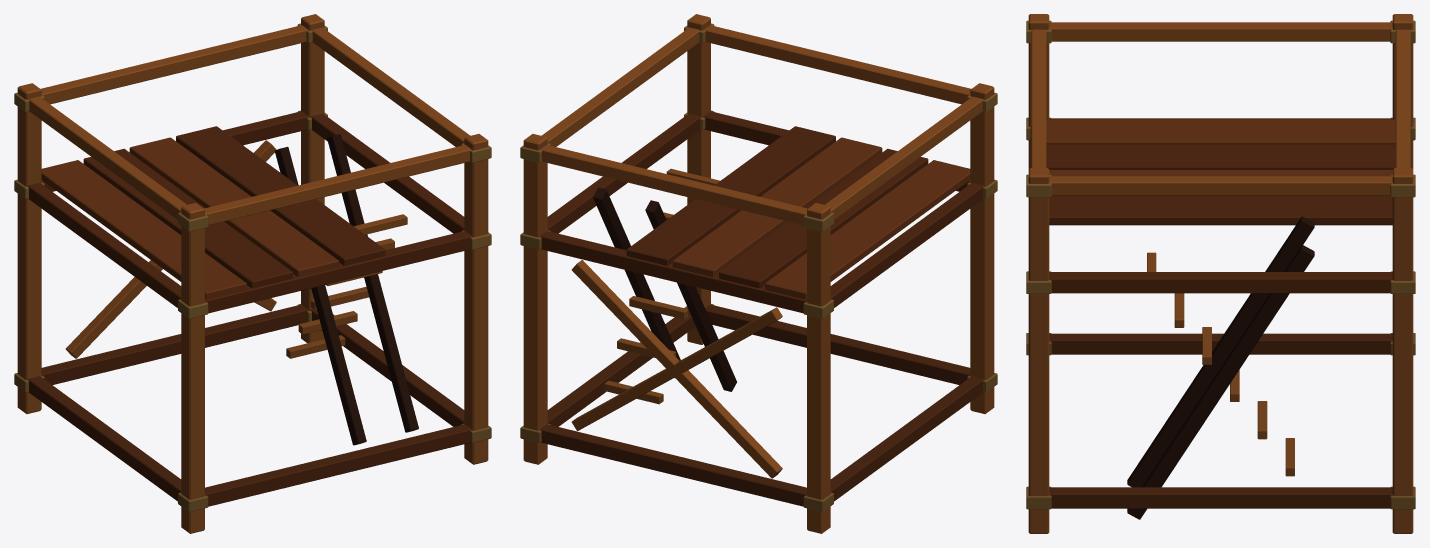
The model's file is mod_scaffolding_frame_2m.glb.
3 views of the same model, side by side, from view 1: azimuth 30°, elevation 25°; view 2: azimuth 150°, elevation 25°; view 3: azimuth 270°, elevation 25° (orthographic). The views are drawn at different scales.
Visible parts, largest first — view 1: Mod_Scaffolding_Frame_2m; view 2: Mod_Scaffolding_Frame_2m; view 3: Mod_Scaffolding_Frame_2m.
Boxes of the visible parts, bbox=[...] form: Mod_Scaffolding_Frame_2m: bbox=[14, 14, 491, 533]; Mod_Scaffolding_Frame_2m: bbox=[520, 14, 997, 533]; Mod_Scaffolding_Frame_2m: bbox=[1026, 14, 1415, 533].
Bounding box in the file's own units: 1.97 × 2 × 1.97.
